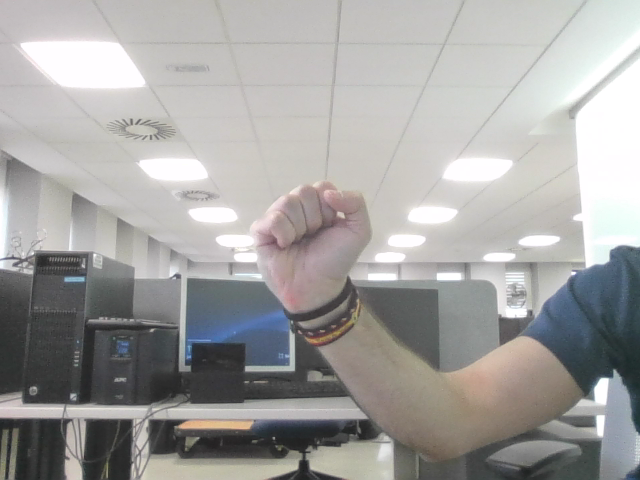Puño: (269, 185, 353, 265)
